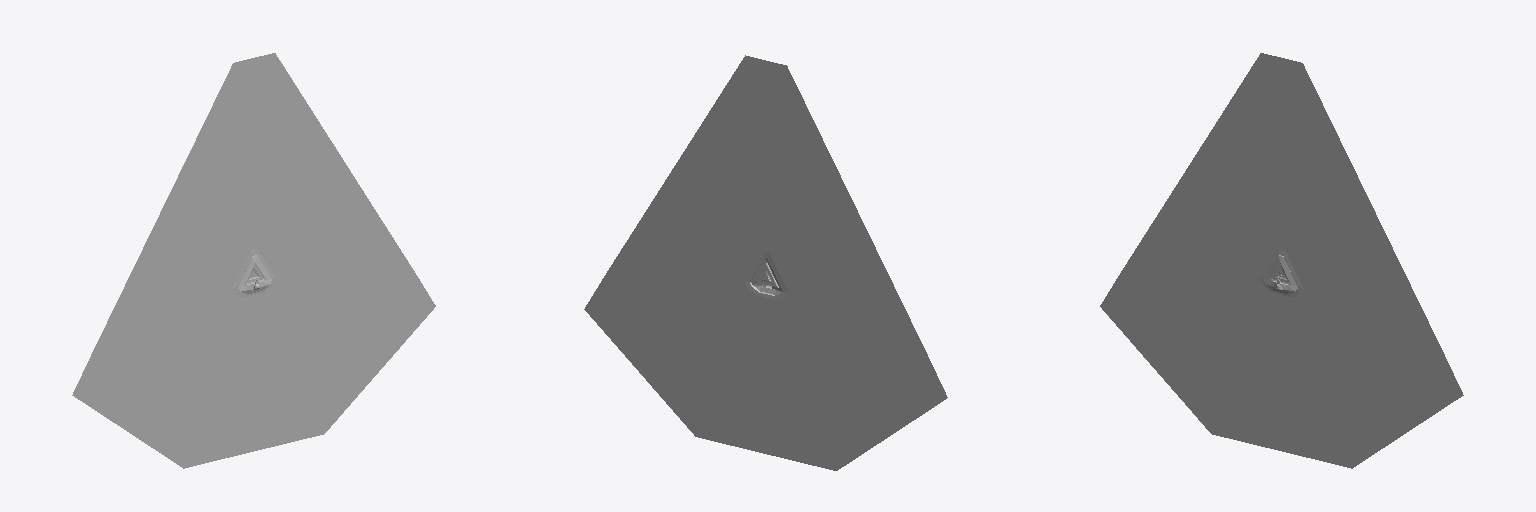
File: base_station.obj
3 renders of one model, left to right at view 1: azimuth 30°, elevation 25°; view 2: azimuth 150°, elevation 25°; view 3: azimuth 330°, elevation 25°, orthographic.
Visible parts, largest first — view 1: Cylinder; view 2: Cylinder; view 3: Cylinder.
Part boxes in pixels (x1,y1,x2,y2): Cylinder: (72,53,435,468); Cylinder: (584,55,947,470); Cylinder: (1100,53,1463,468).
Bounding box in the file's own units: 3235 × 3344 × 67.1.